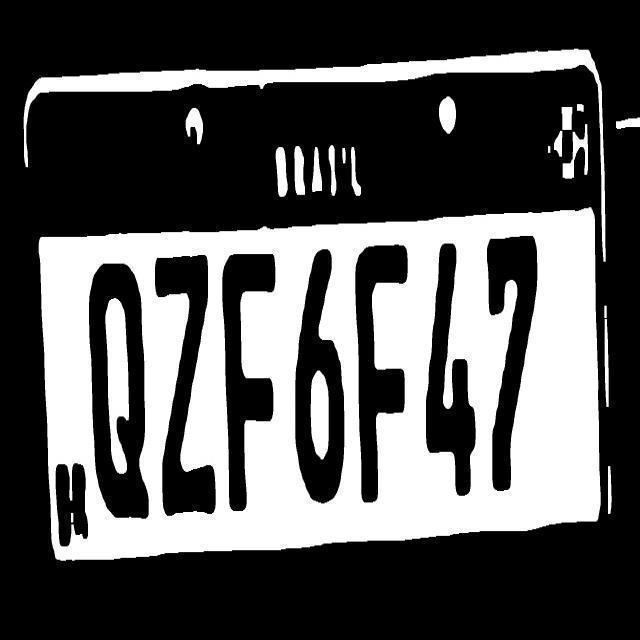4: (423, 240, 476, 500)
6: (294, 244, 346, 502)
7: (483, 231, 543, 494)
f: (352, 238, 414, 507), (222, 250, 282, 516)
q: (87, 261, 150, 527)
z: (152, 252, 216, 520)
